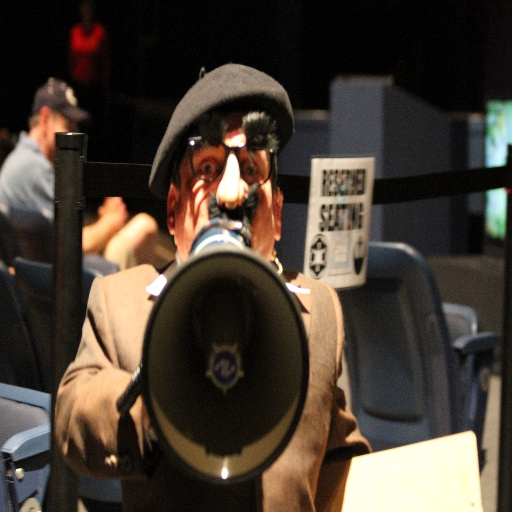hand: (96, 196, 128, 228)
